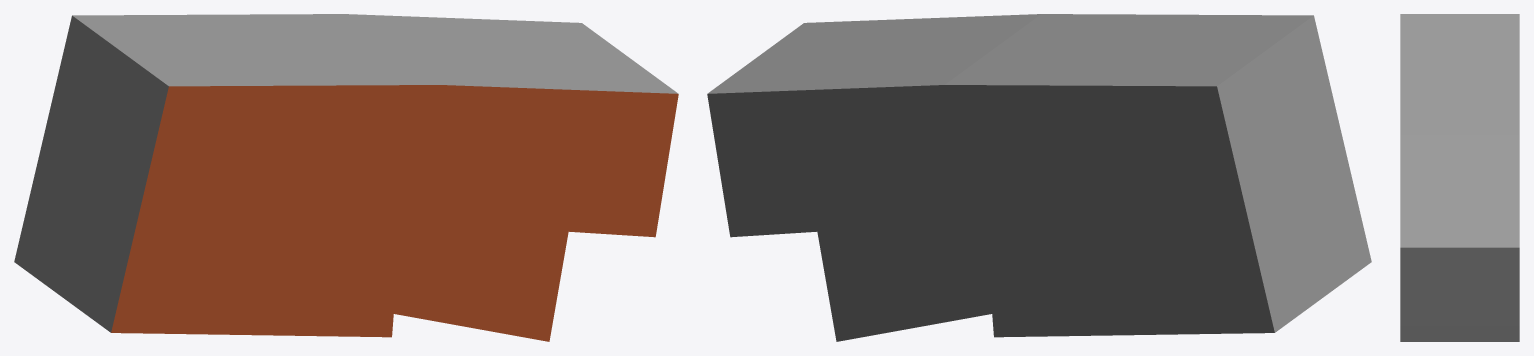
File: construction_5980_assumed_A_Casa_h6m.obj
3 renders of one model, left to right at view 1: azimuth 30°, elevation 25°; view 2: azimuth 150°, elevation 25°; view 3: azimuth 270°, elevation 25°, orthographic. The views are drawn at different scales.
Parts seen in each view (by area): view 1: construction_5980_assumed_A_Casa; view 2: construction_5980_assumed_A_Casa; view 3: construction_5980_assumed_A_Casa.
Boxes of the visible parts, bbox=[...] form: construction_5980_assumed_A_Casa: bbox=[14, 14, 678, 341]; construction_5980_assumed_A_Casa: bbox=[707, 14, 1371, 341]; construction_5980_assumed_A_Casa: bbox=[1400, 14, 1519, 341].
Bounding box in the file's own units: 20.29 × 11.9 × 6.
